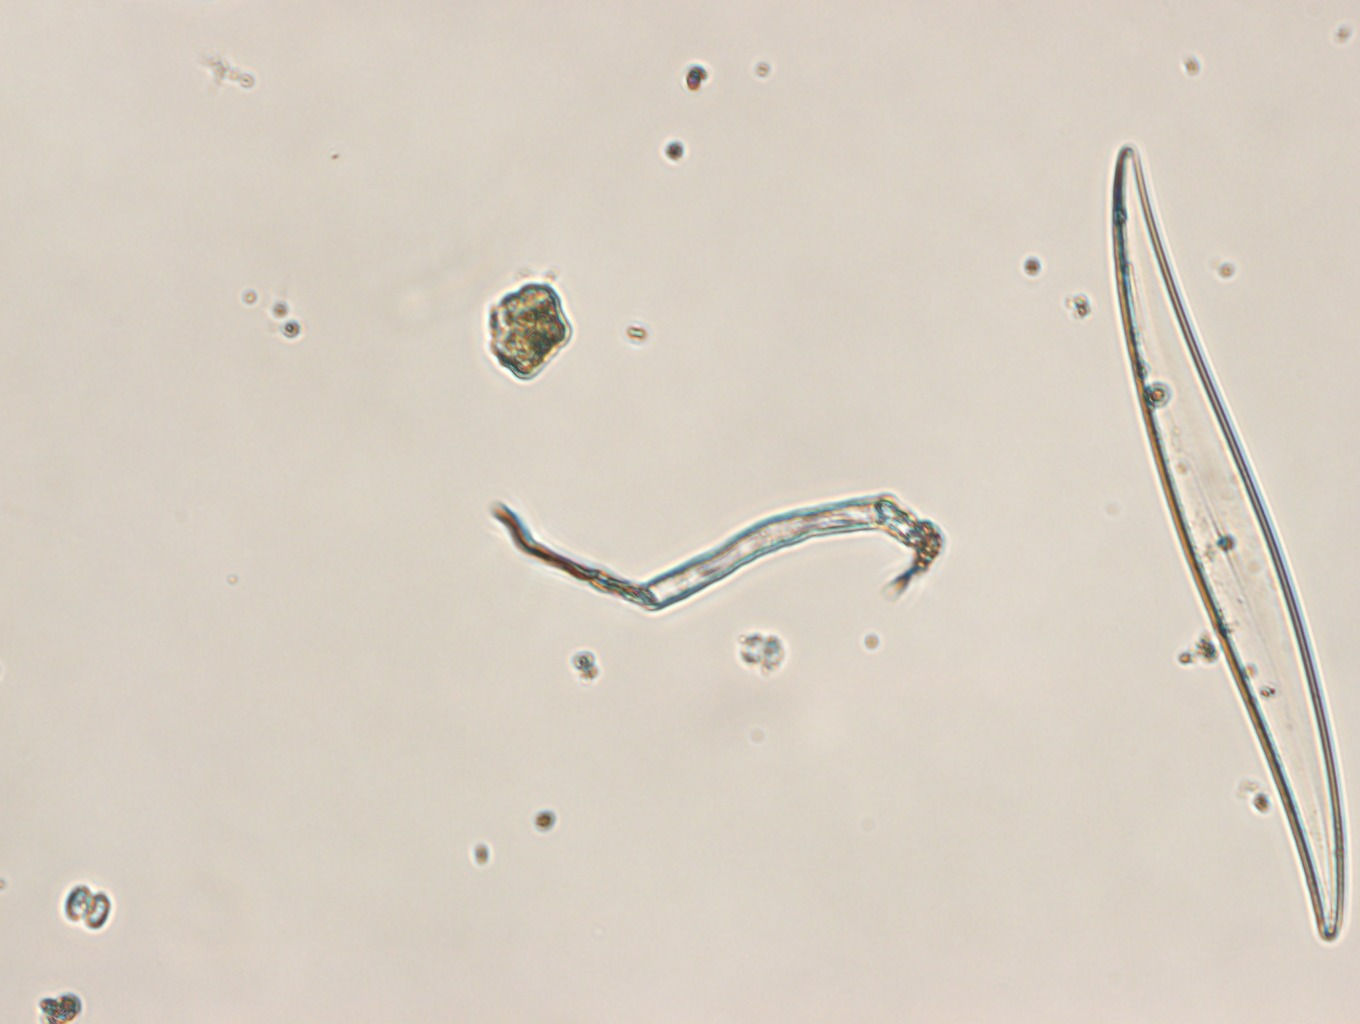pleurosigma pelagicum: (1108, 142, 1347, 942)
